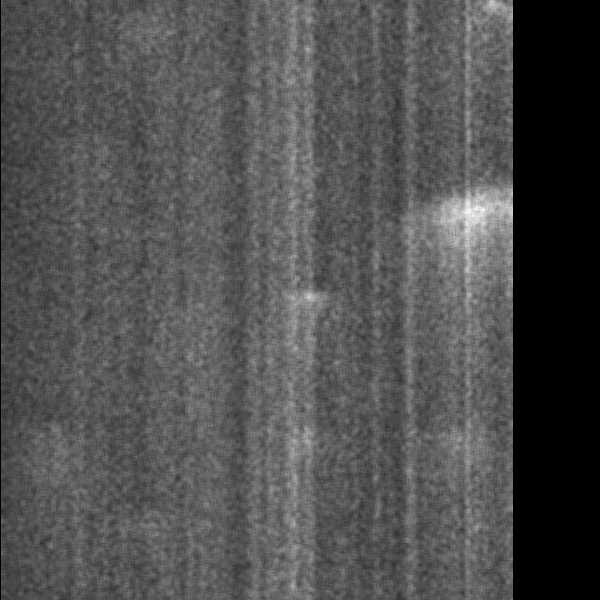spark: (448, 181, 503, 332), (288, 283, 349, 310), (122, 3, 149, 57)
